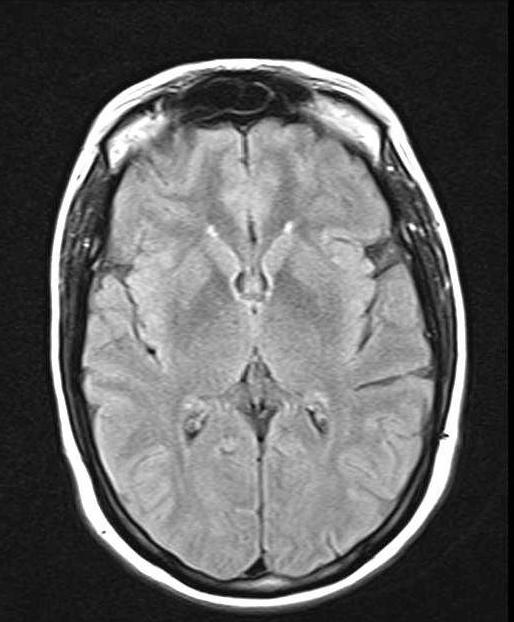Normal_Brain: (9, 15, 514, 622)
